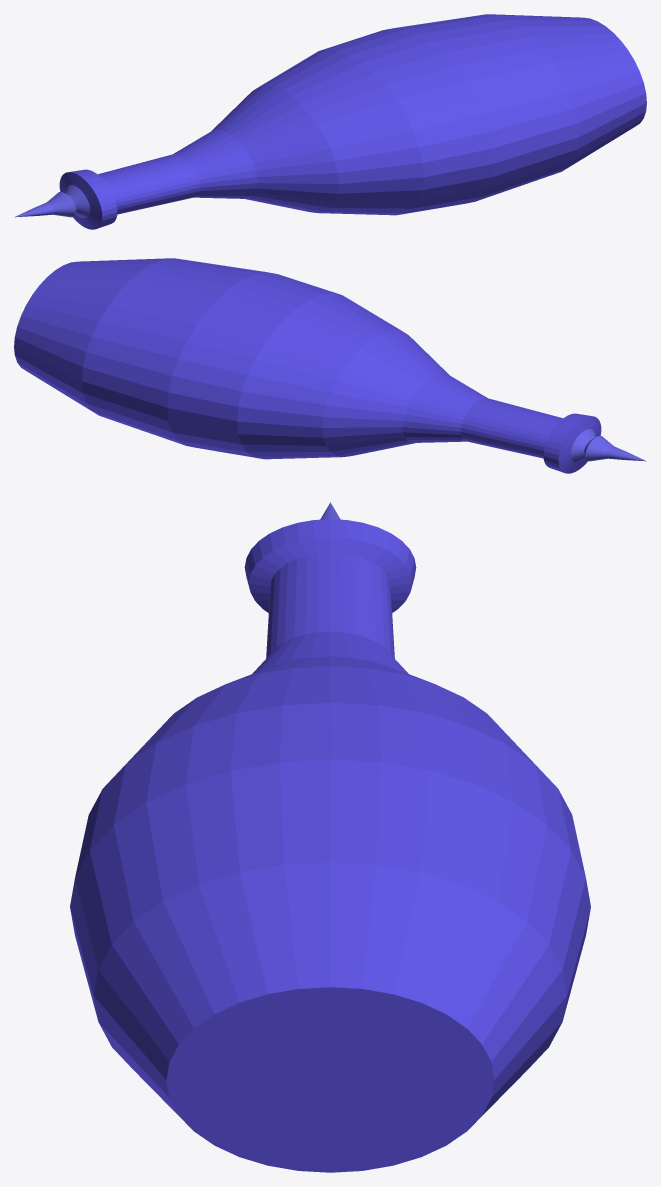
Rendered from tearsPotion.fbx.
The picture shows the model from 3 angles, top to bottom: view 1: azimuth 30°, elevation 25°; view 2: azimuth 150°, elevation 25°; view 3: azimuth 270°, elevation 25°; orthographic projection. The views are drawn at different scales.
Visible parts, largest first — view 1: tears; view 2: tears; view 3: tears.
Part boxes in pixels (bbox=[...]): tears: bbox=[14, 14, 646, 229]; tears: bbox=[14, 258, 646, 473]; tears: bbox=[70, 502, 590, 1172].
Bounding box in the file's own units: 377 × 89.56 × 144.
